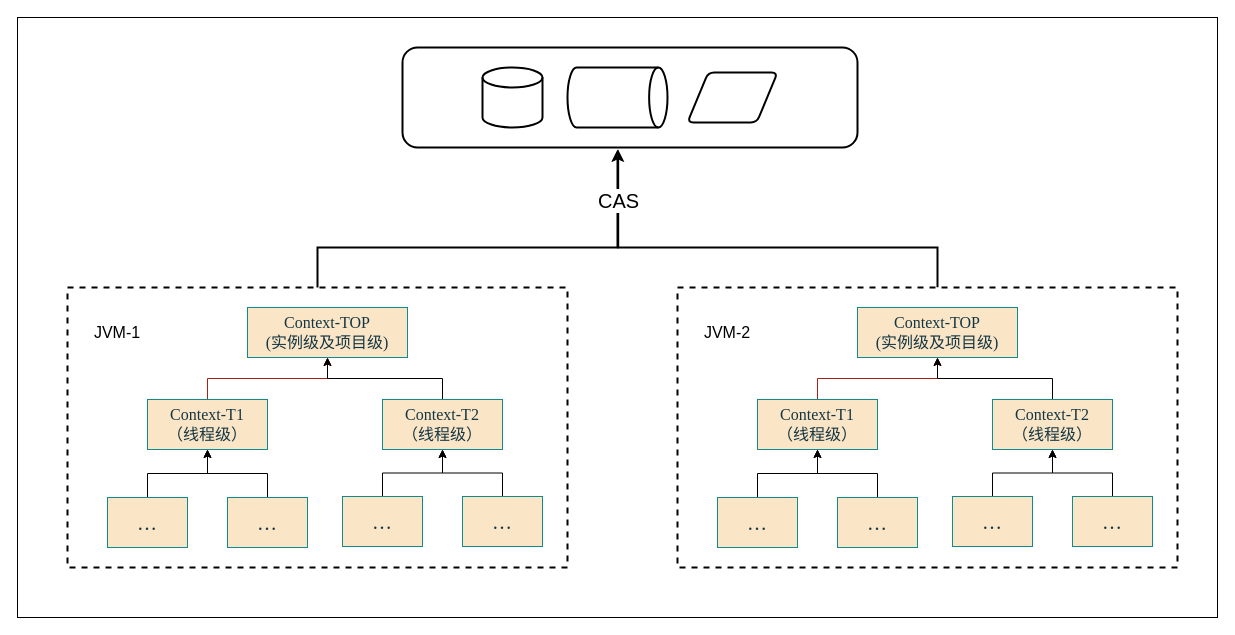
Image size: 1235x635. Some labels were removed from this diagram. The box of each missing label's shape, as (x1, y1, x2, y2) in pixels:
DB: (481, 66, 543, 128)
redis: (566, 66, 668, 128)
其他: (686, 71, 778, 123)
